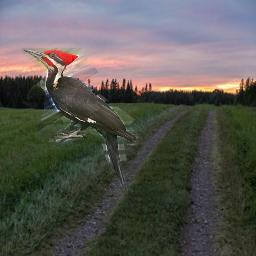Woodpecker: (22, 48, 139, 192)
